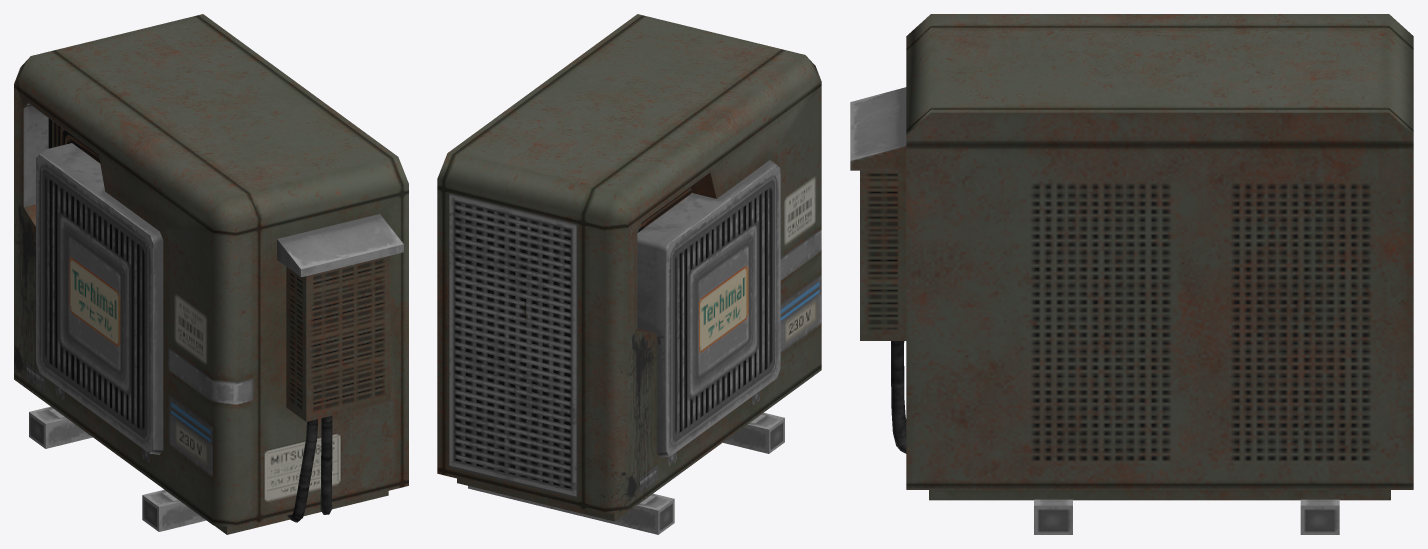
Rendered from CP_Conditioner_02.fbx.
3 renders of one model, left to right at view 1: azimuth 30°, elevation 25°; view 2: azimuth 150°, elevation 25°; view 3: azimuth 270°, elevation 25°, orthographic. The views are drawn at different scales.
Visible parts, largest first — view 1: CP_Conditioner_02_LOD0; view 2: CP_Conditioner_02_LOD0; view 3: CP_Conditioner_02_LOD0.
Part boxes in pixels (x1,y1,x2,y2): CP_Conditioner_02_LOD0: (14, 14, 408, 534); CP_Conditioner_02_LOD0: (437, 14, 821, 534); CP_Conditioner_02_LOD0: (850, 14, 1413, 534).
Size of what is drawn, in the model's own units: 40.87 by 71.7 by 86.69.
